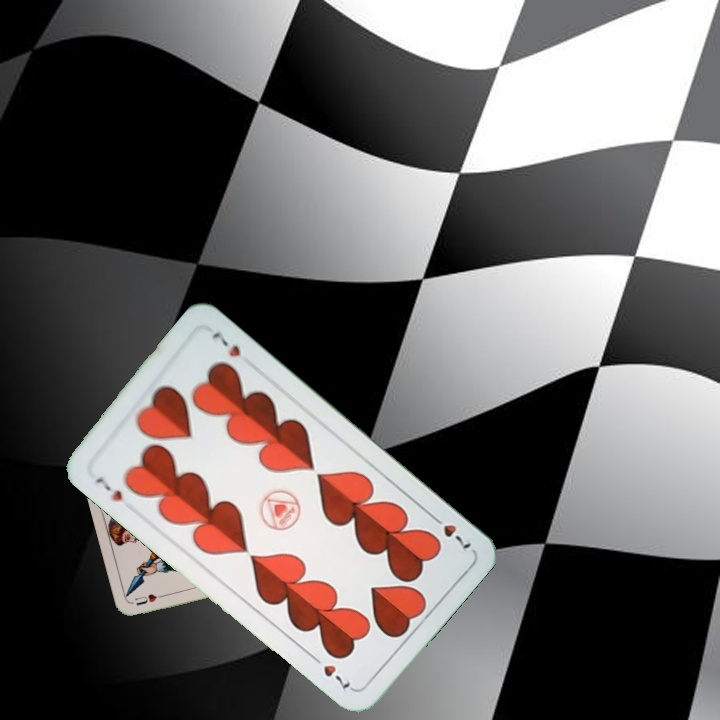H7: (426, 509, 474, 554), (91, 472, 126, 504)
HU: (131, 590, 170, 608)
